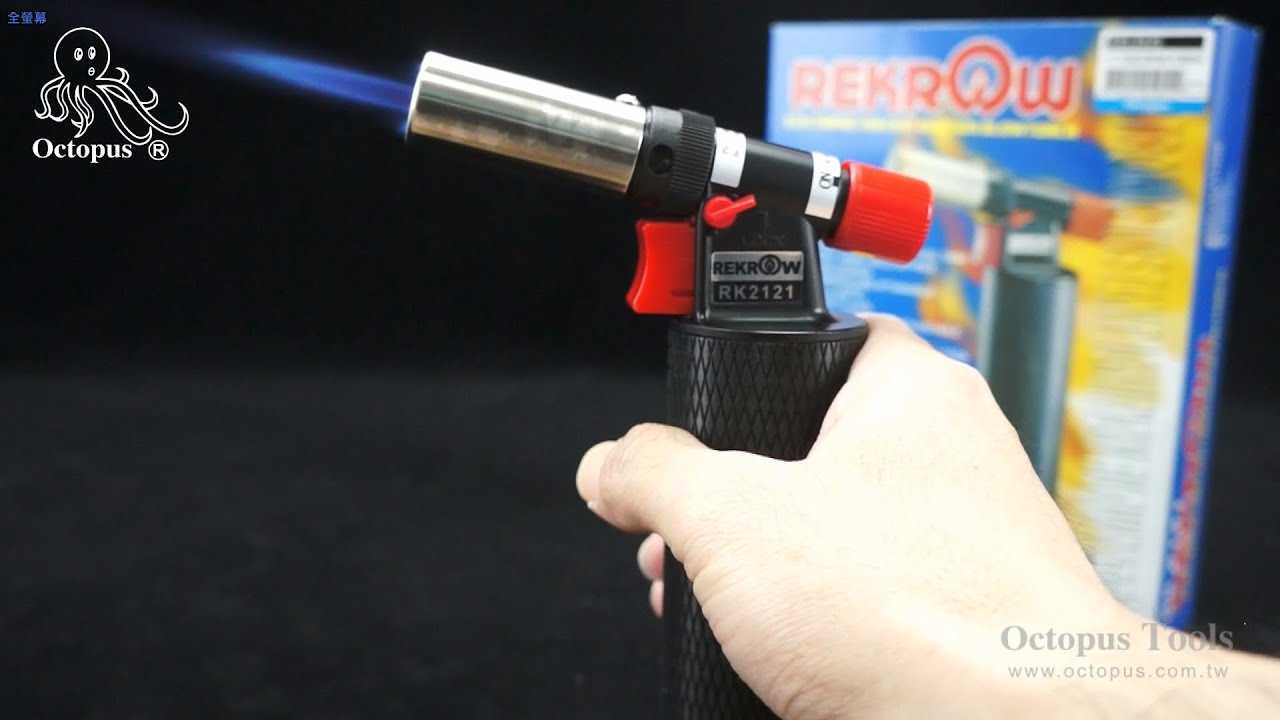gastorch: (409, 38, 949, 710), (883, 134, 1126, 528)
